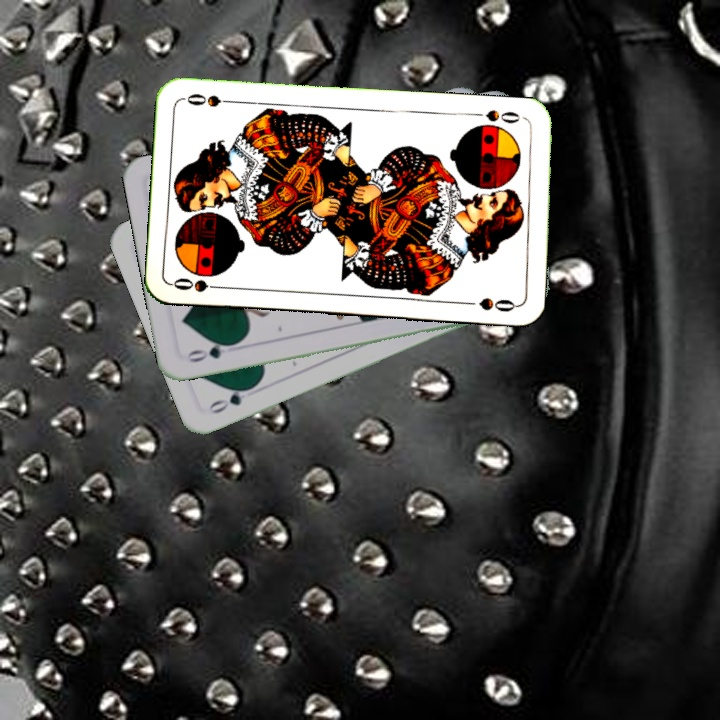GO: (205, 381, 258, 417), (181, 338, 239, 365)
SO: (169, 274, 229, 295), (470, 106, 522, 126)
